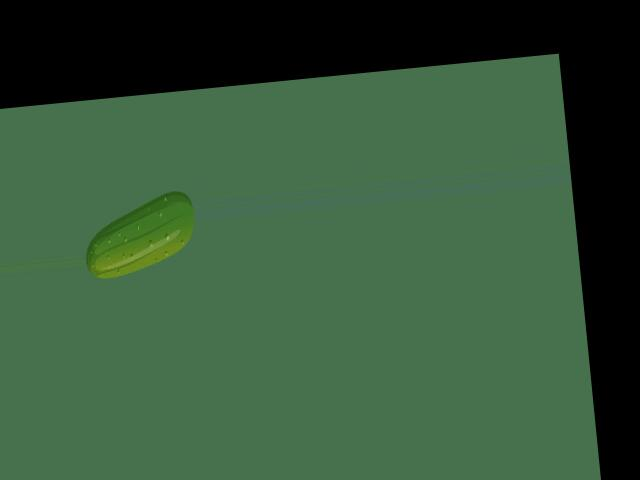cucumber: (80, 189, 199, 279)
